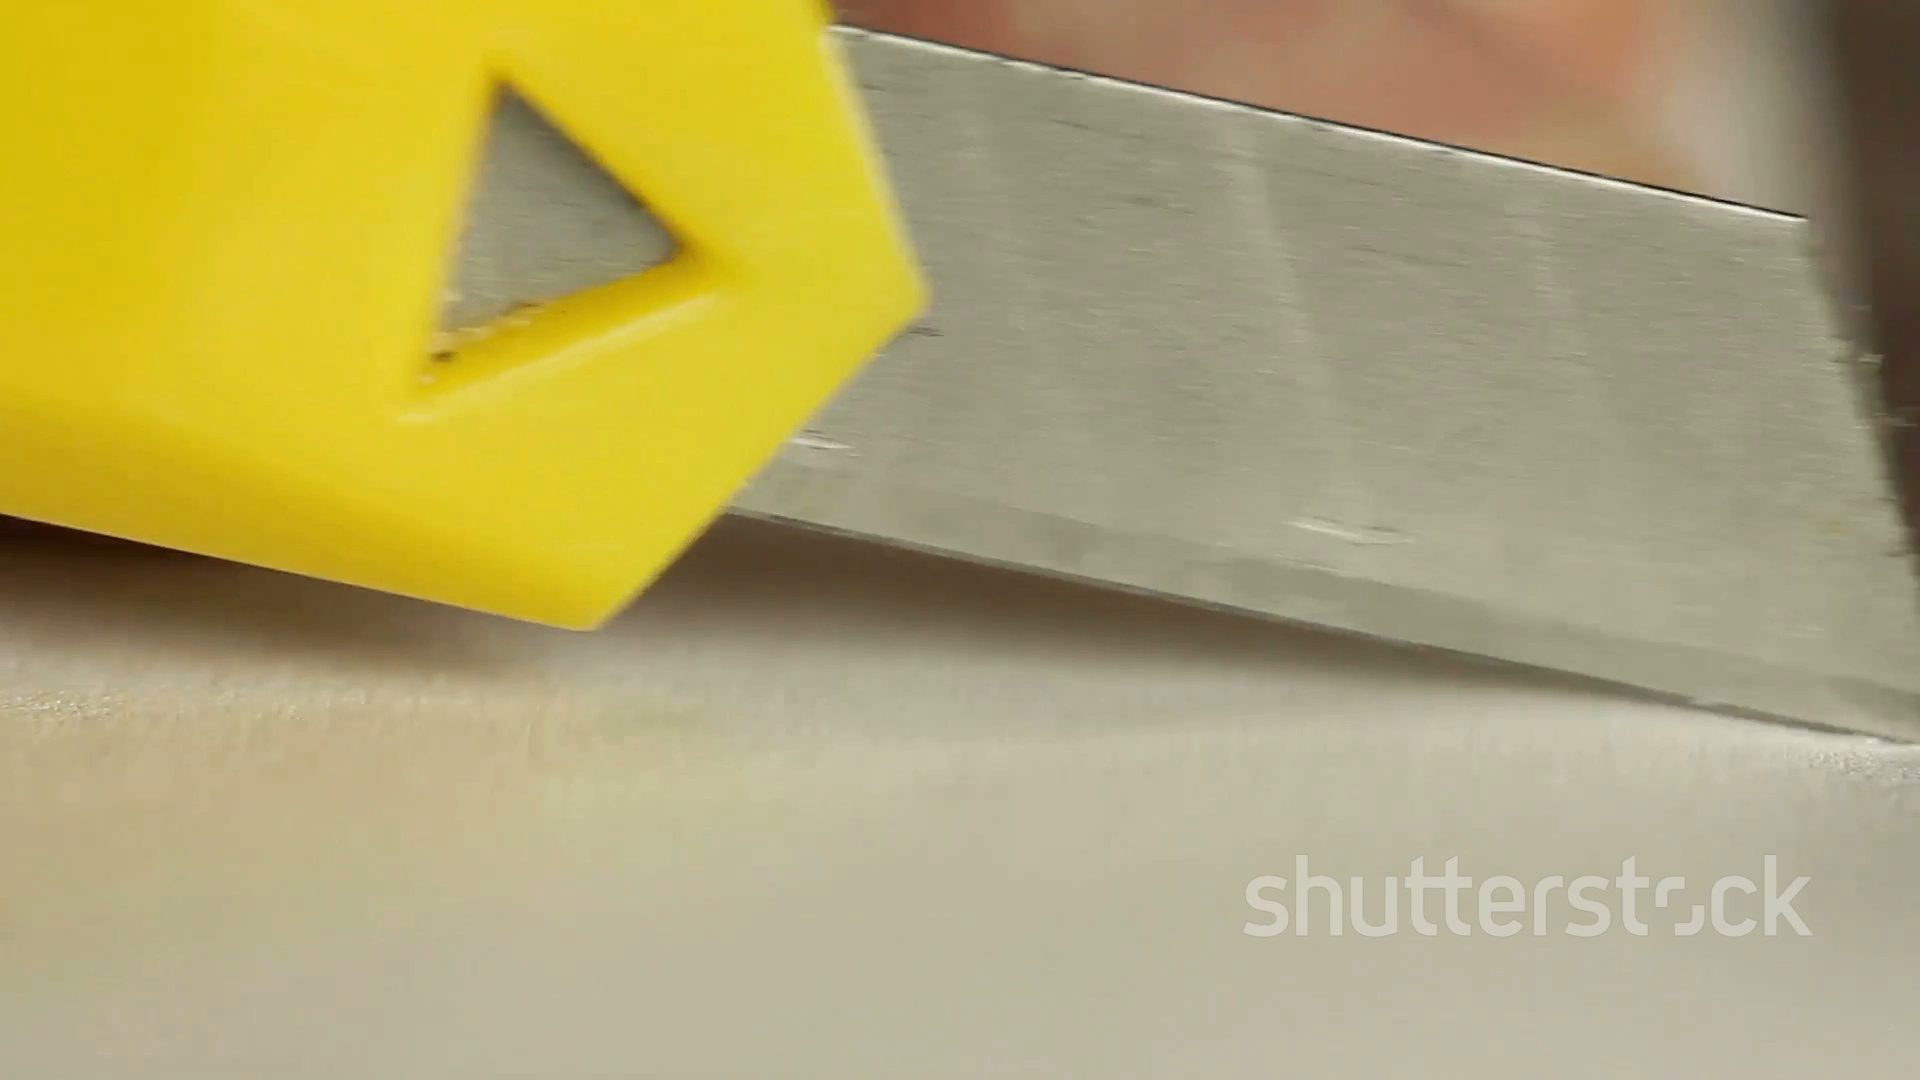cortante: (731, 22, 1920, 740)
